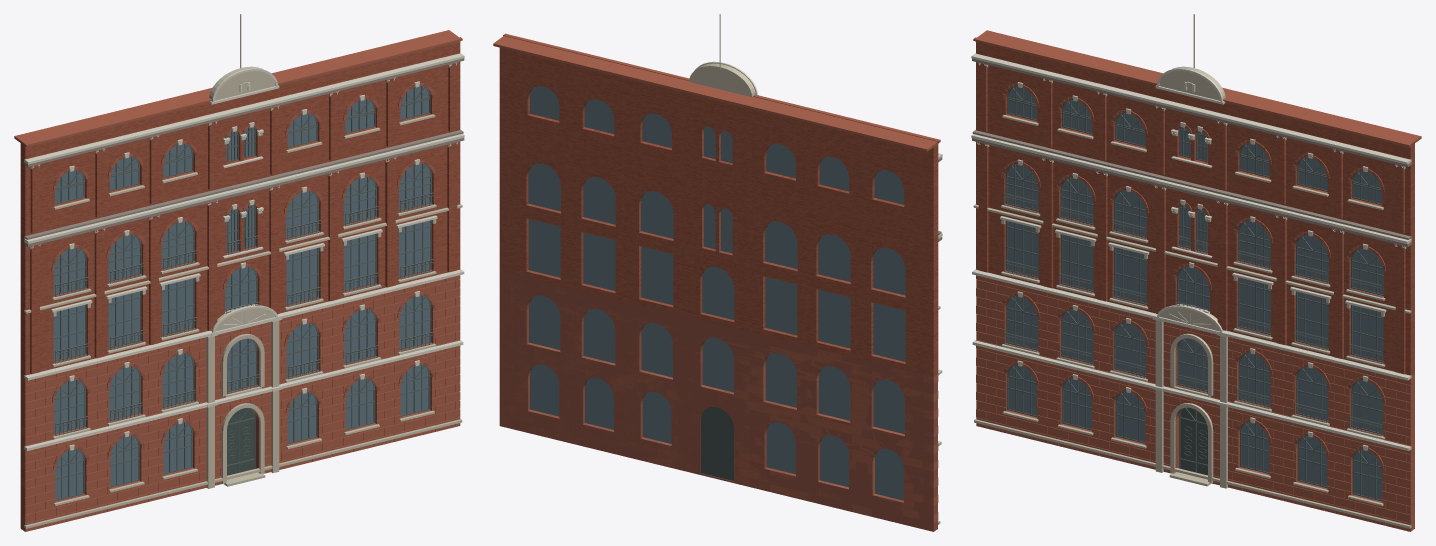
Rendered from huangpu-swire-east-building-bund-front-lod.glb.
The picture shows the model from 3 angles, left to right: view 1: azimuth 30°, elevation 25°; view 2: azimuth 150°, elevation 25°; view 3: azimuth 330°, elevation 25°; orthographic projection.
Visible parts, largest first — view 1: 太古洋行东楼临江七开间红砖正立面; view 2: 太古洋行东楼临江七开间红砖正立面; view 3: 太古洋行东楼临江七开间红砖正立面.
Boxes of the visible parts, x1,y1,x2,y2 form: 太古洋行东楼临江七开间红砖正立面: [14, 14, 464, 531]; 太古洋行东楼临江七开间红砖正立面: [493, 14, 942, 531]; 太古洋行东楼临江七开间红砖正立面: [971, 14, 1421, 531].
Size of the model in its own units: 30.86 by 31.34 by 1.86.
11 materials, 1 textured.
